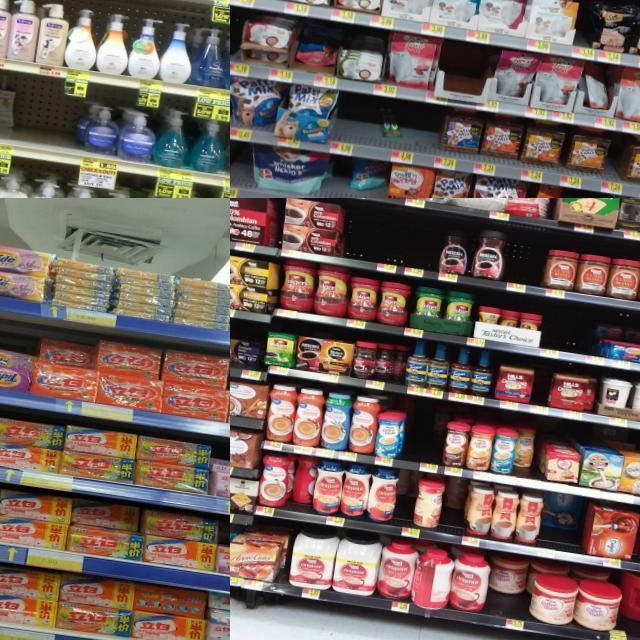Imprecise: (71, 491, 149, 558), (36, 332, 97, 394), (486, 550, 534, 623), (538, 495, 592, 553), (582, 60, 620, 118), (440, 474, 468, 532), (512, 428, 544, 478), (0, 77, 24, 142), (620, 569, 640, 639), (394, 470, 418, 526), (341, 166, 386, 194), (378, 110, 402, 144)
